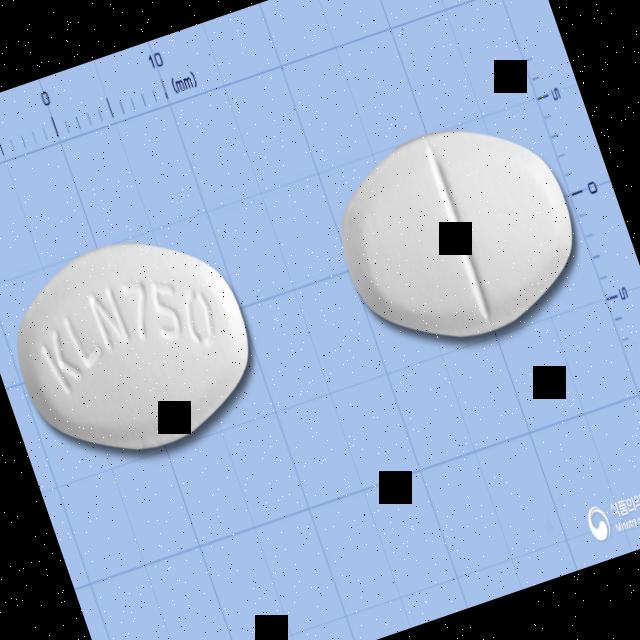Levo Plus: (0, 209, 276, 482)
